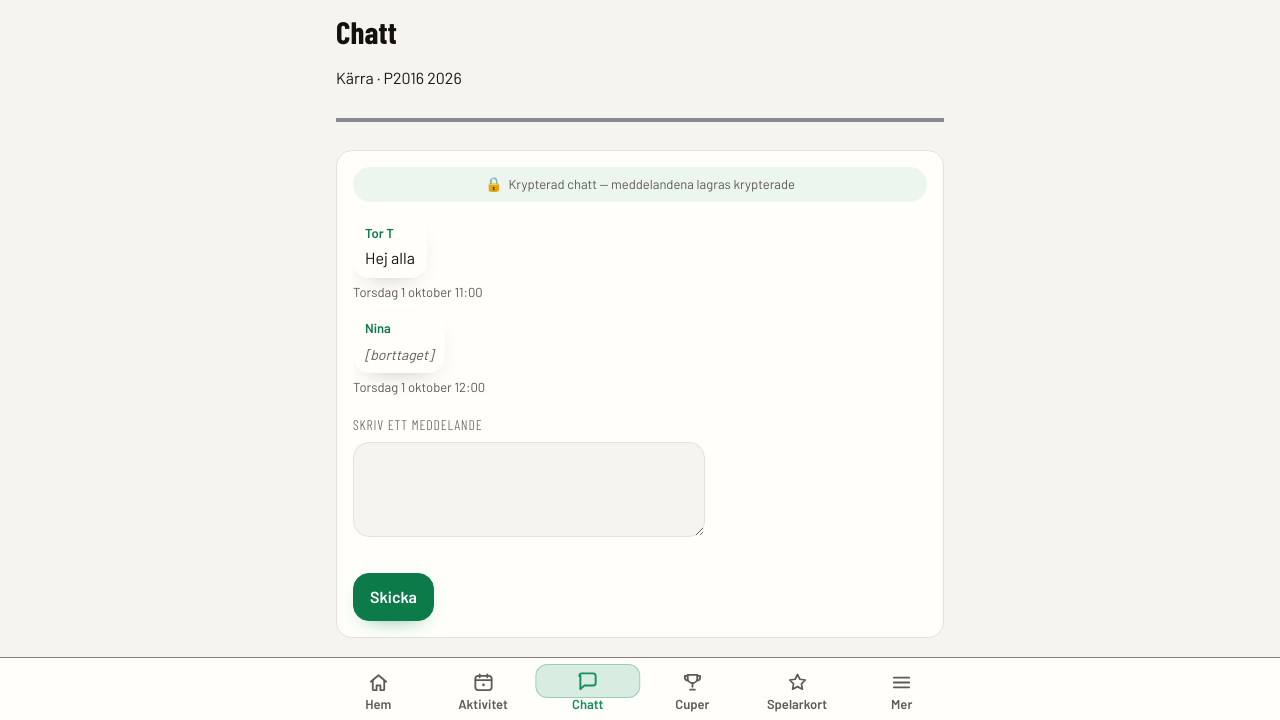
Test case: trupp-chatt › långtryck-menyn är en dialog med ett namn (#404)
Right-click the button "Tor T Hej alla" at (390,247), box [353,216,427,278]
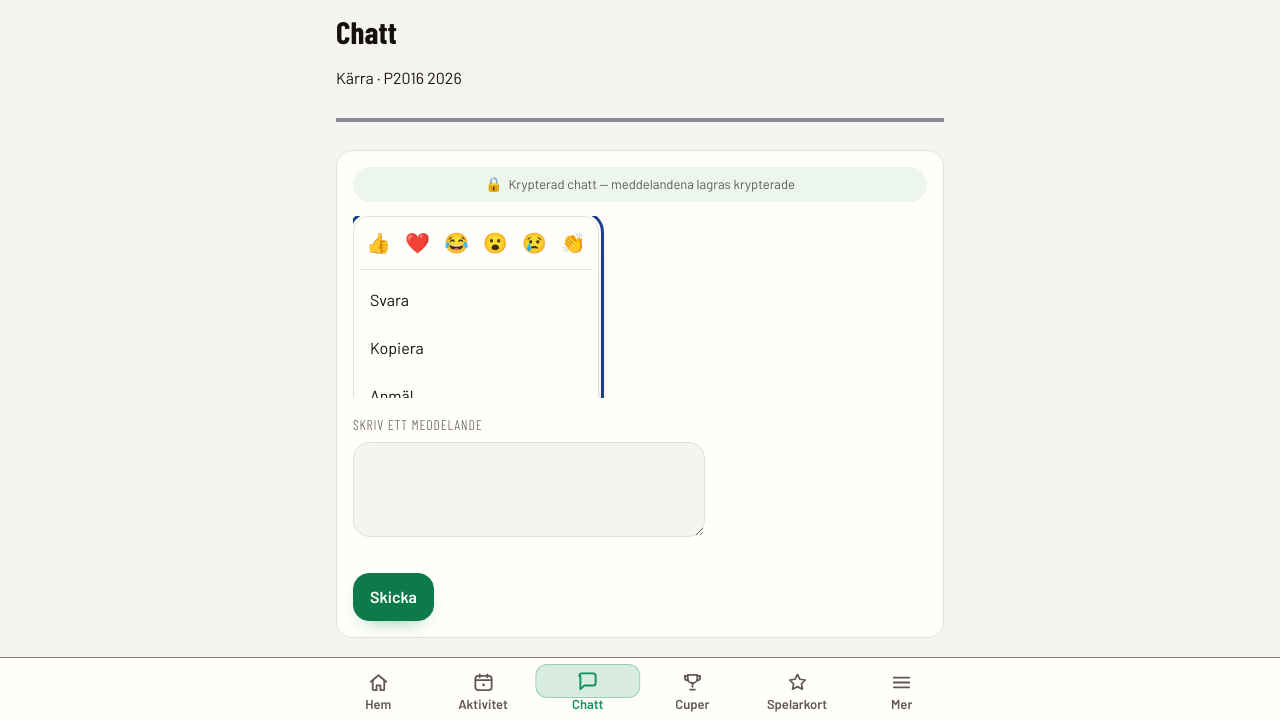
Expected: the dialog named "Val för meddelandet" is shown, [353,216,599,398]
